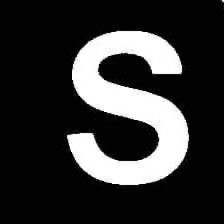LTR_S: (63, 21, 199, 193)
